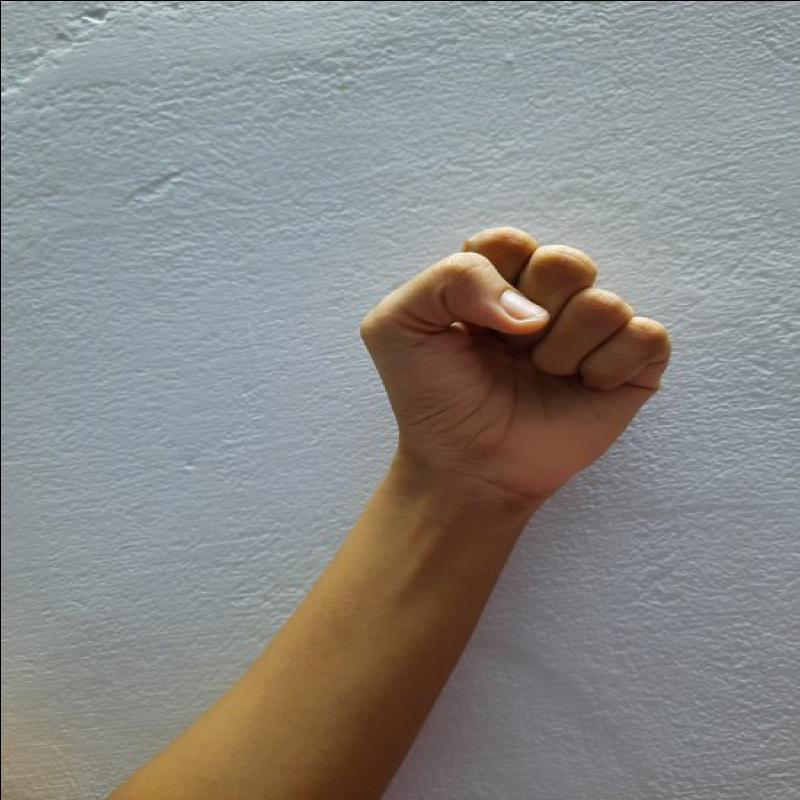Mushti: (343, 214, 684, 525)
